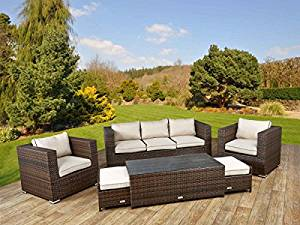chairs: (15, 132, 101, 204), (103, 116, 216, 166), (218, 117, 283, 180)
